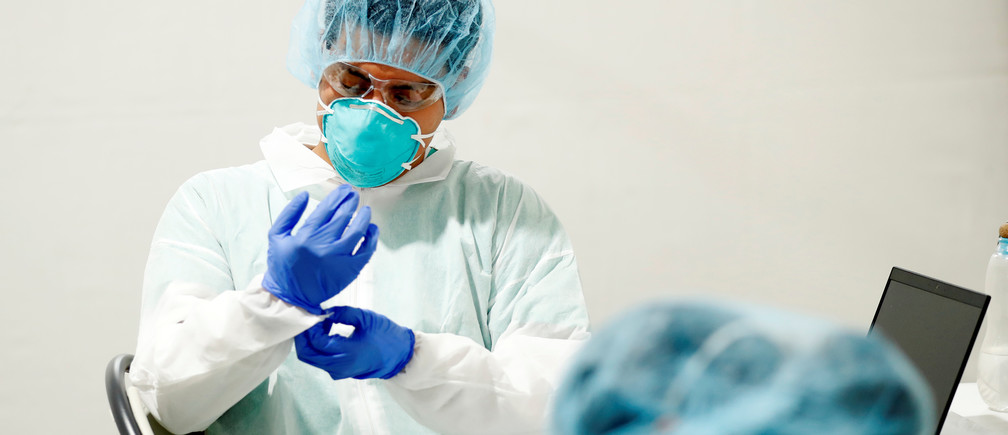Coverall: (132, 150, 585, 431)
Gloves: (268, 183, 380, 314), (294, 301, 414, 384)
Goggles: (320, 60, 446, 110)
with_mask: (322, 96, 423, 187)
